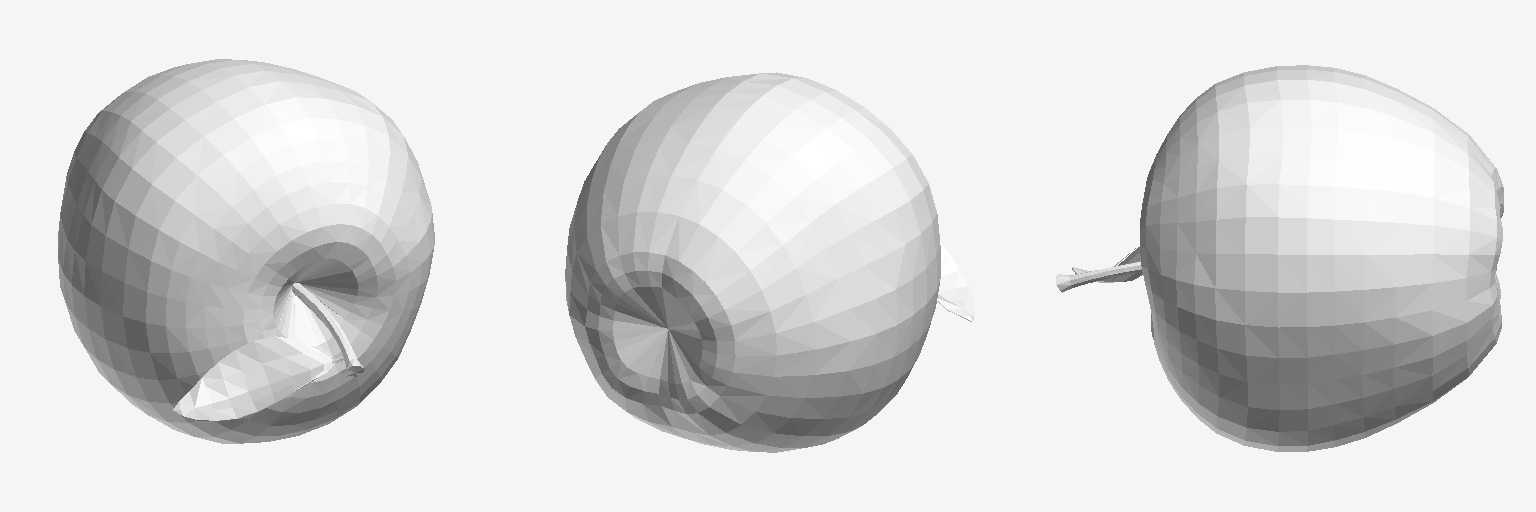
Rendered from Apple.obj.
3 views of the same model, side by side, from view 1: azimuth 30°, elevation 25°; view 2: azimuth 150°, elevation 25°; view 3: azimuth 270°, elevation 25° (orthographic).
Visible parts, largest first — view 1: Object.1; view 2: Object.1; view 3: Object.1.
Boxes of the visible parts, <box> form: Object.1: <box>58,59,434,443</box>; Object.1: <box>565,72,974,452</box>; Object.1: <box>1056,65,1503,451</box>.
Size of the model in its own units: 53.56 by 55.53 by 65.55.